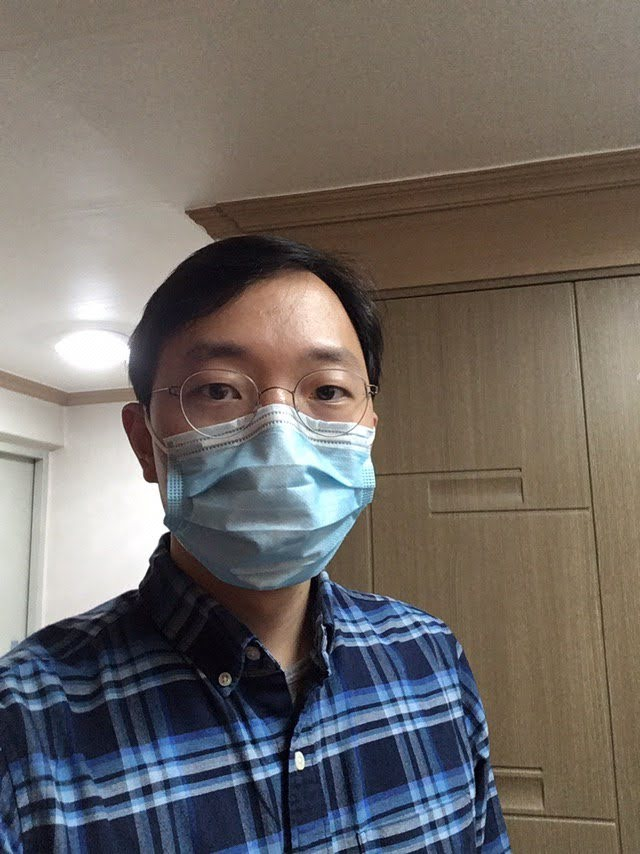mask: (149, 272, 376, 593)
